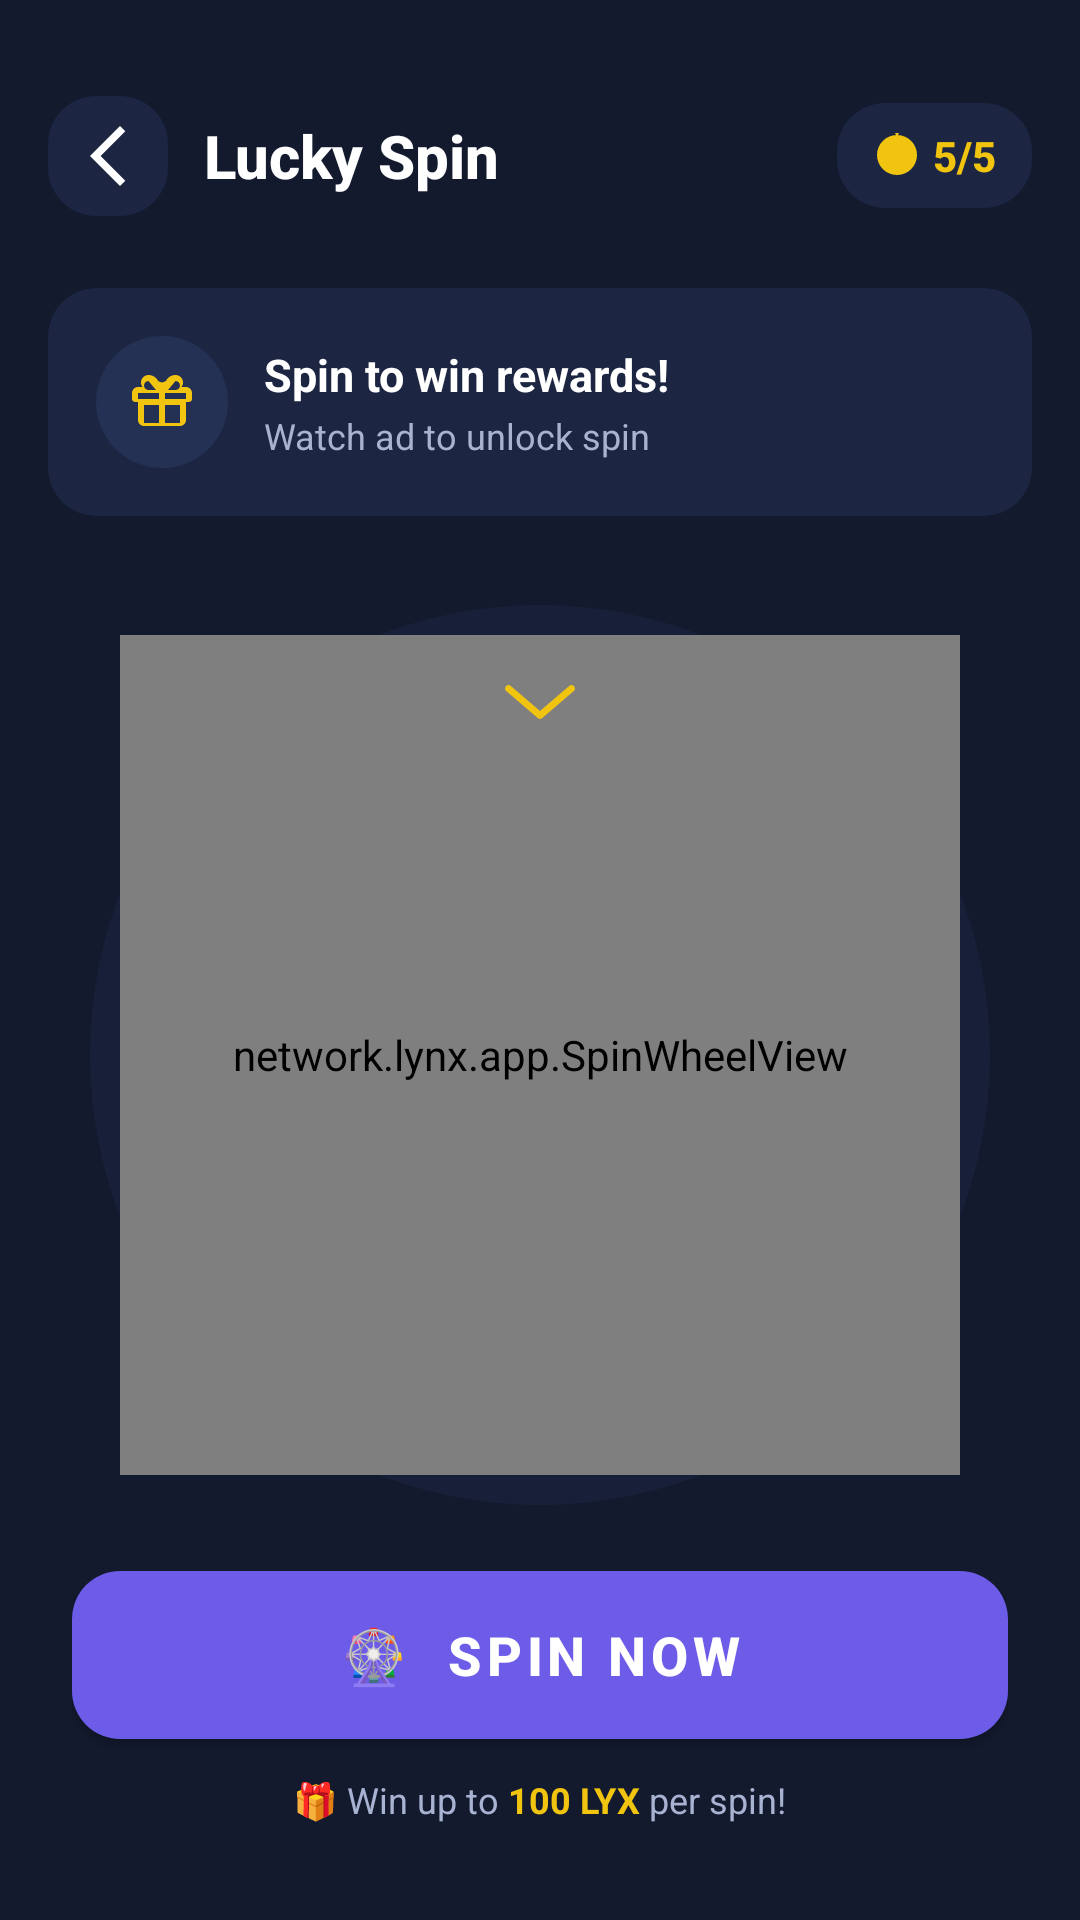

Named icons in this screenshot (1080px×1920px) and their bounding boxes, (x1, y1, x2, y2):
Back: (48, 96, 168, 216)
